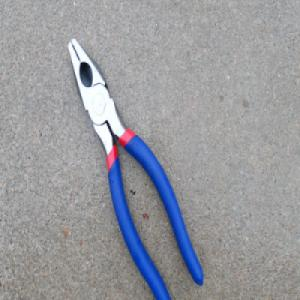Pliers: (66, 37, 203, 300)
